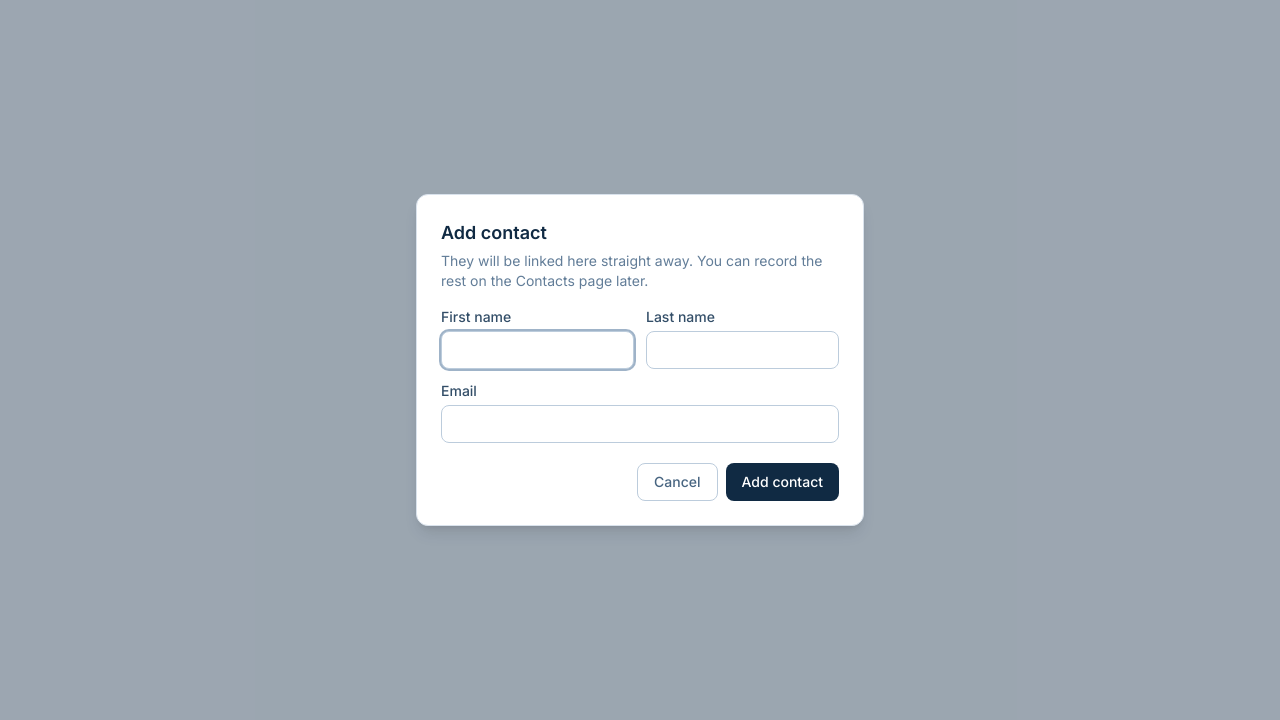
Test: ContactQuickCreateModal › refuses a contact with nothing recorded at all
This screenshot has width=1280, height=720.
Click the button "Add contact".
click(782, 482)  # box [726,463,839,501]
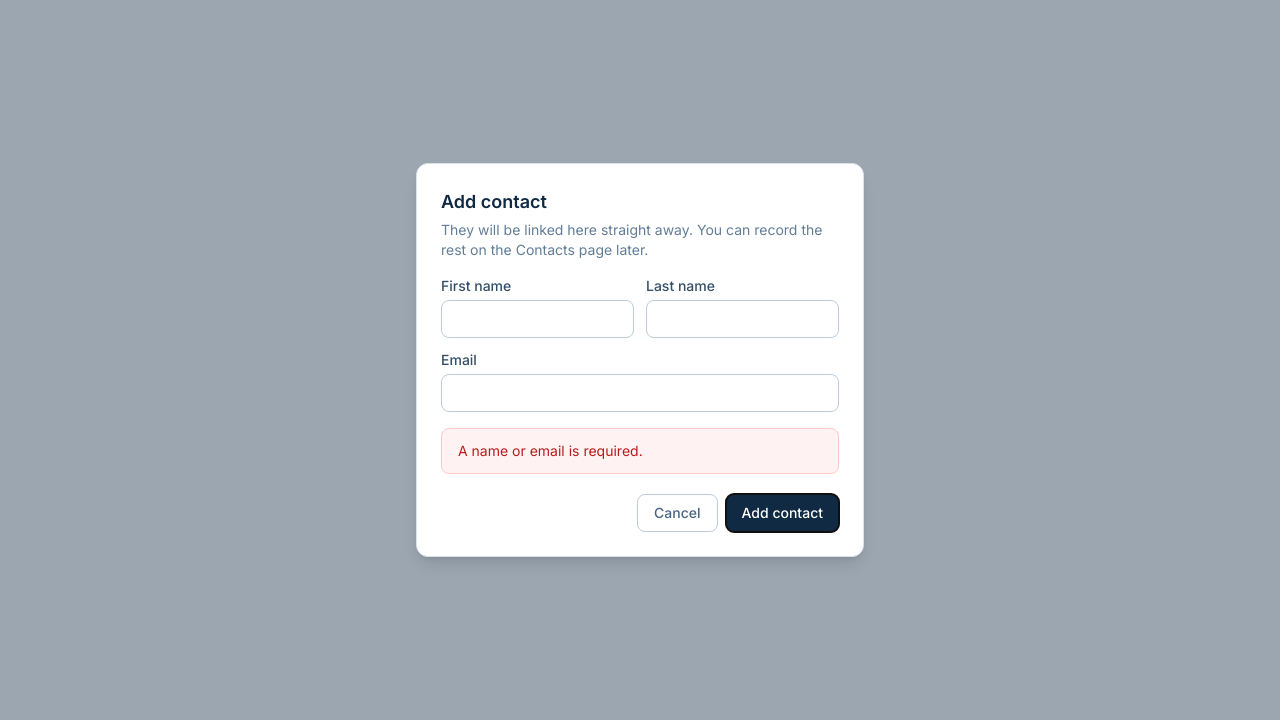
Expected: the text "A name or email is required." is shown, [441,428,839,474]
